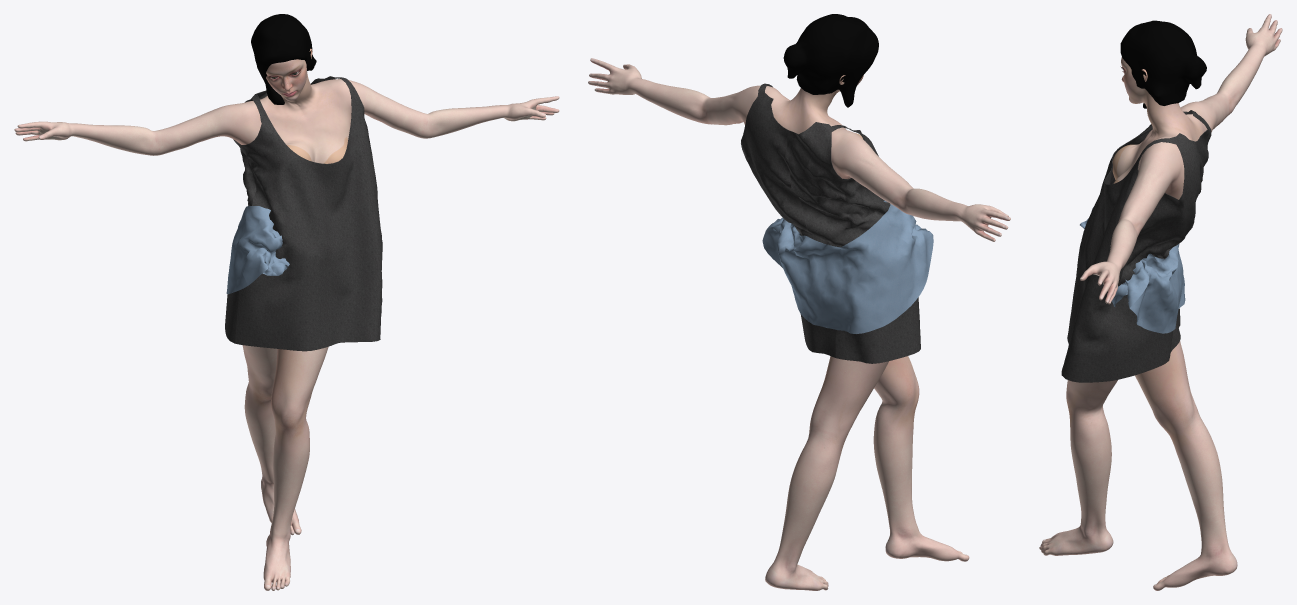
The model's file is Dramatic.obj.
3 views of the same model, side by side, from view 1: azimuth 30°, elevation 25°; view 2: azimuth 150°, elevation 25°; view 3: azimuth 270°, elevation 25° (orthographic). The views are drawn at different scales.
Size of the model in its own units: 1601 by 1717 by 679.
